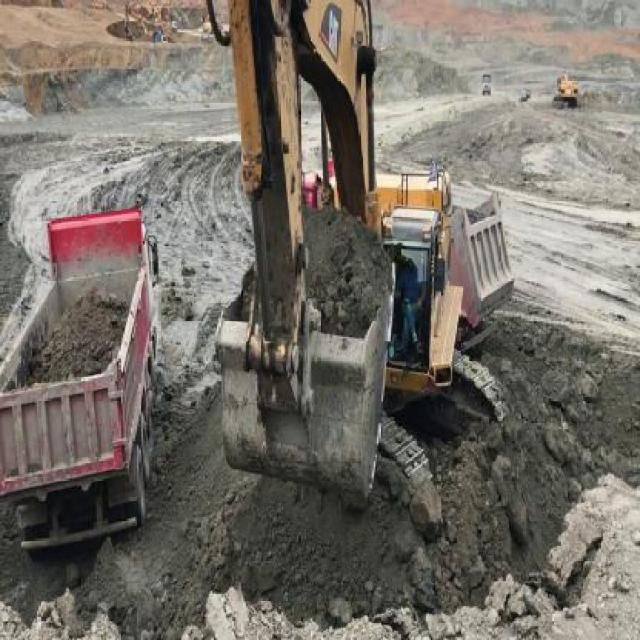dump_truck: (7, 208, 162, 547)
excavator: (183, 2, 512, 548), (553, 74, 578, 108)
